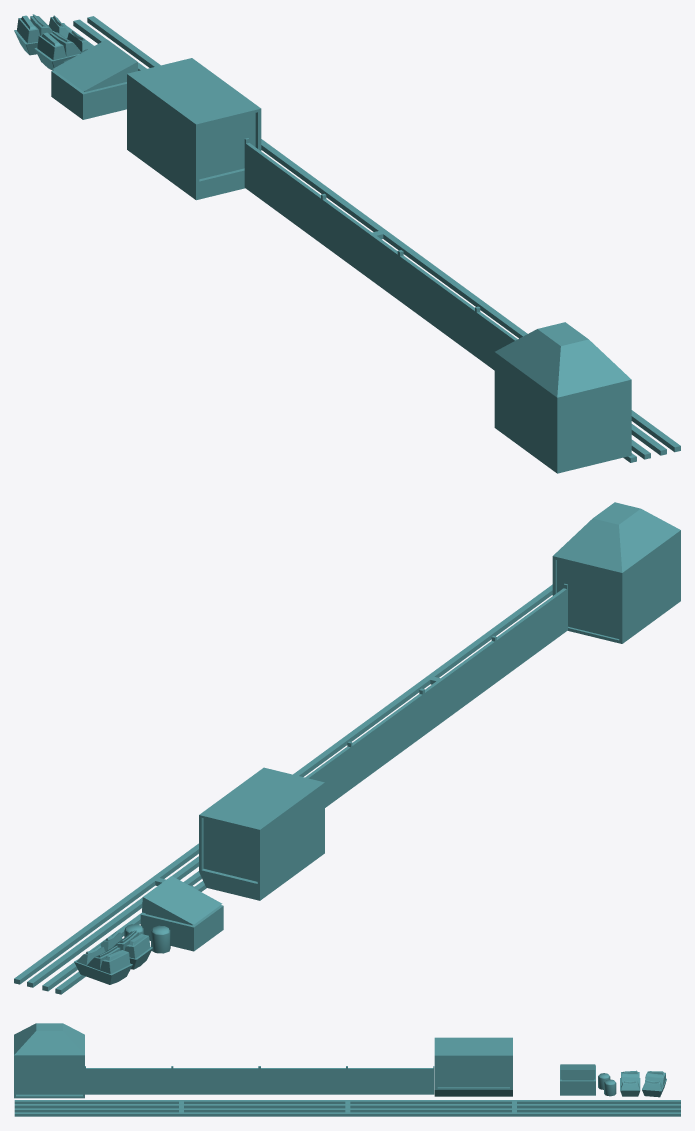
Rendered from kitchenTown.fbx.
3 renders of one model, top to bottom at view 1: azimuth 30°, elevation 25°; view 2: azimuth 150°, elevation 25°; view 3: azimuth 270°, elevation 25°, orthographic. The views are drawn at different scales.
Parts seen in each view (by area): view 1: stove, displaycase, divider, traysurface, cashier, chips; view 2: stove, displaycase, divider, traysurface, cashier, chips; view 3: traysurface, divider, stove, displaycase, cashier, chips, jars.
Boxes of the visible parts, x1,y1,x2,y2 form: stove: (494,322,631,473); displaycase: (127,58,261,200); divider: (244,138,517,370); traysurface: (66,16,680,462); cashier: (51,39,138,119); chips: (14,14,92,70); stove: (552,502,680,643); displaycase: (199,767,324,900); divider: (305,583,567,807); traysurface: (14,584,552,994); cashier: (140,876,223,951); chips: (74,930,152,984); traysurface: (14,1100,680,1116); divider: (85,1066,434,1094); stove: (14,1023,84,1098); displaycase: (434,1037,512,1096); cashier: (560,1064,595,1095); chips: (620,1070,666,1097); jars: (598,1073,616,1096).
Size of the model in its own units: 145 by 129 by 1191.
